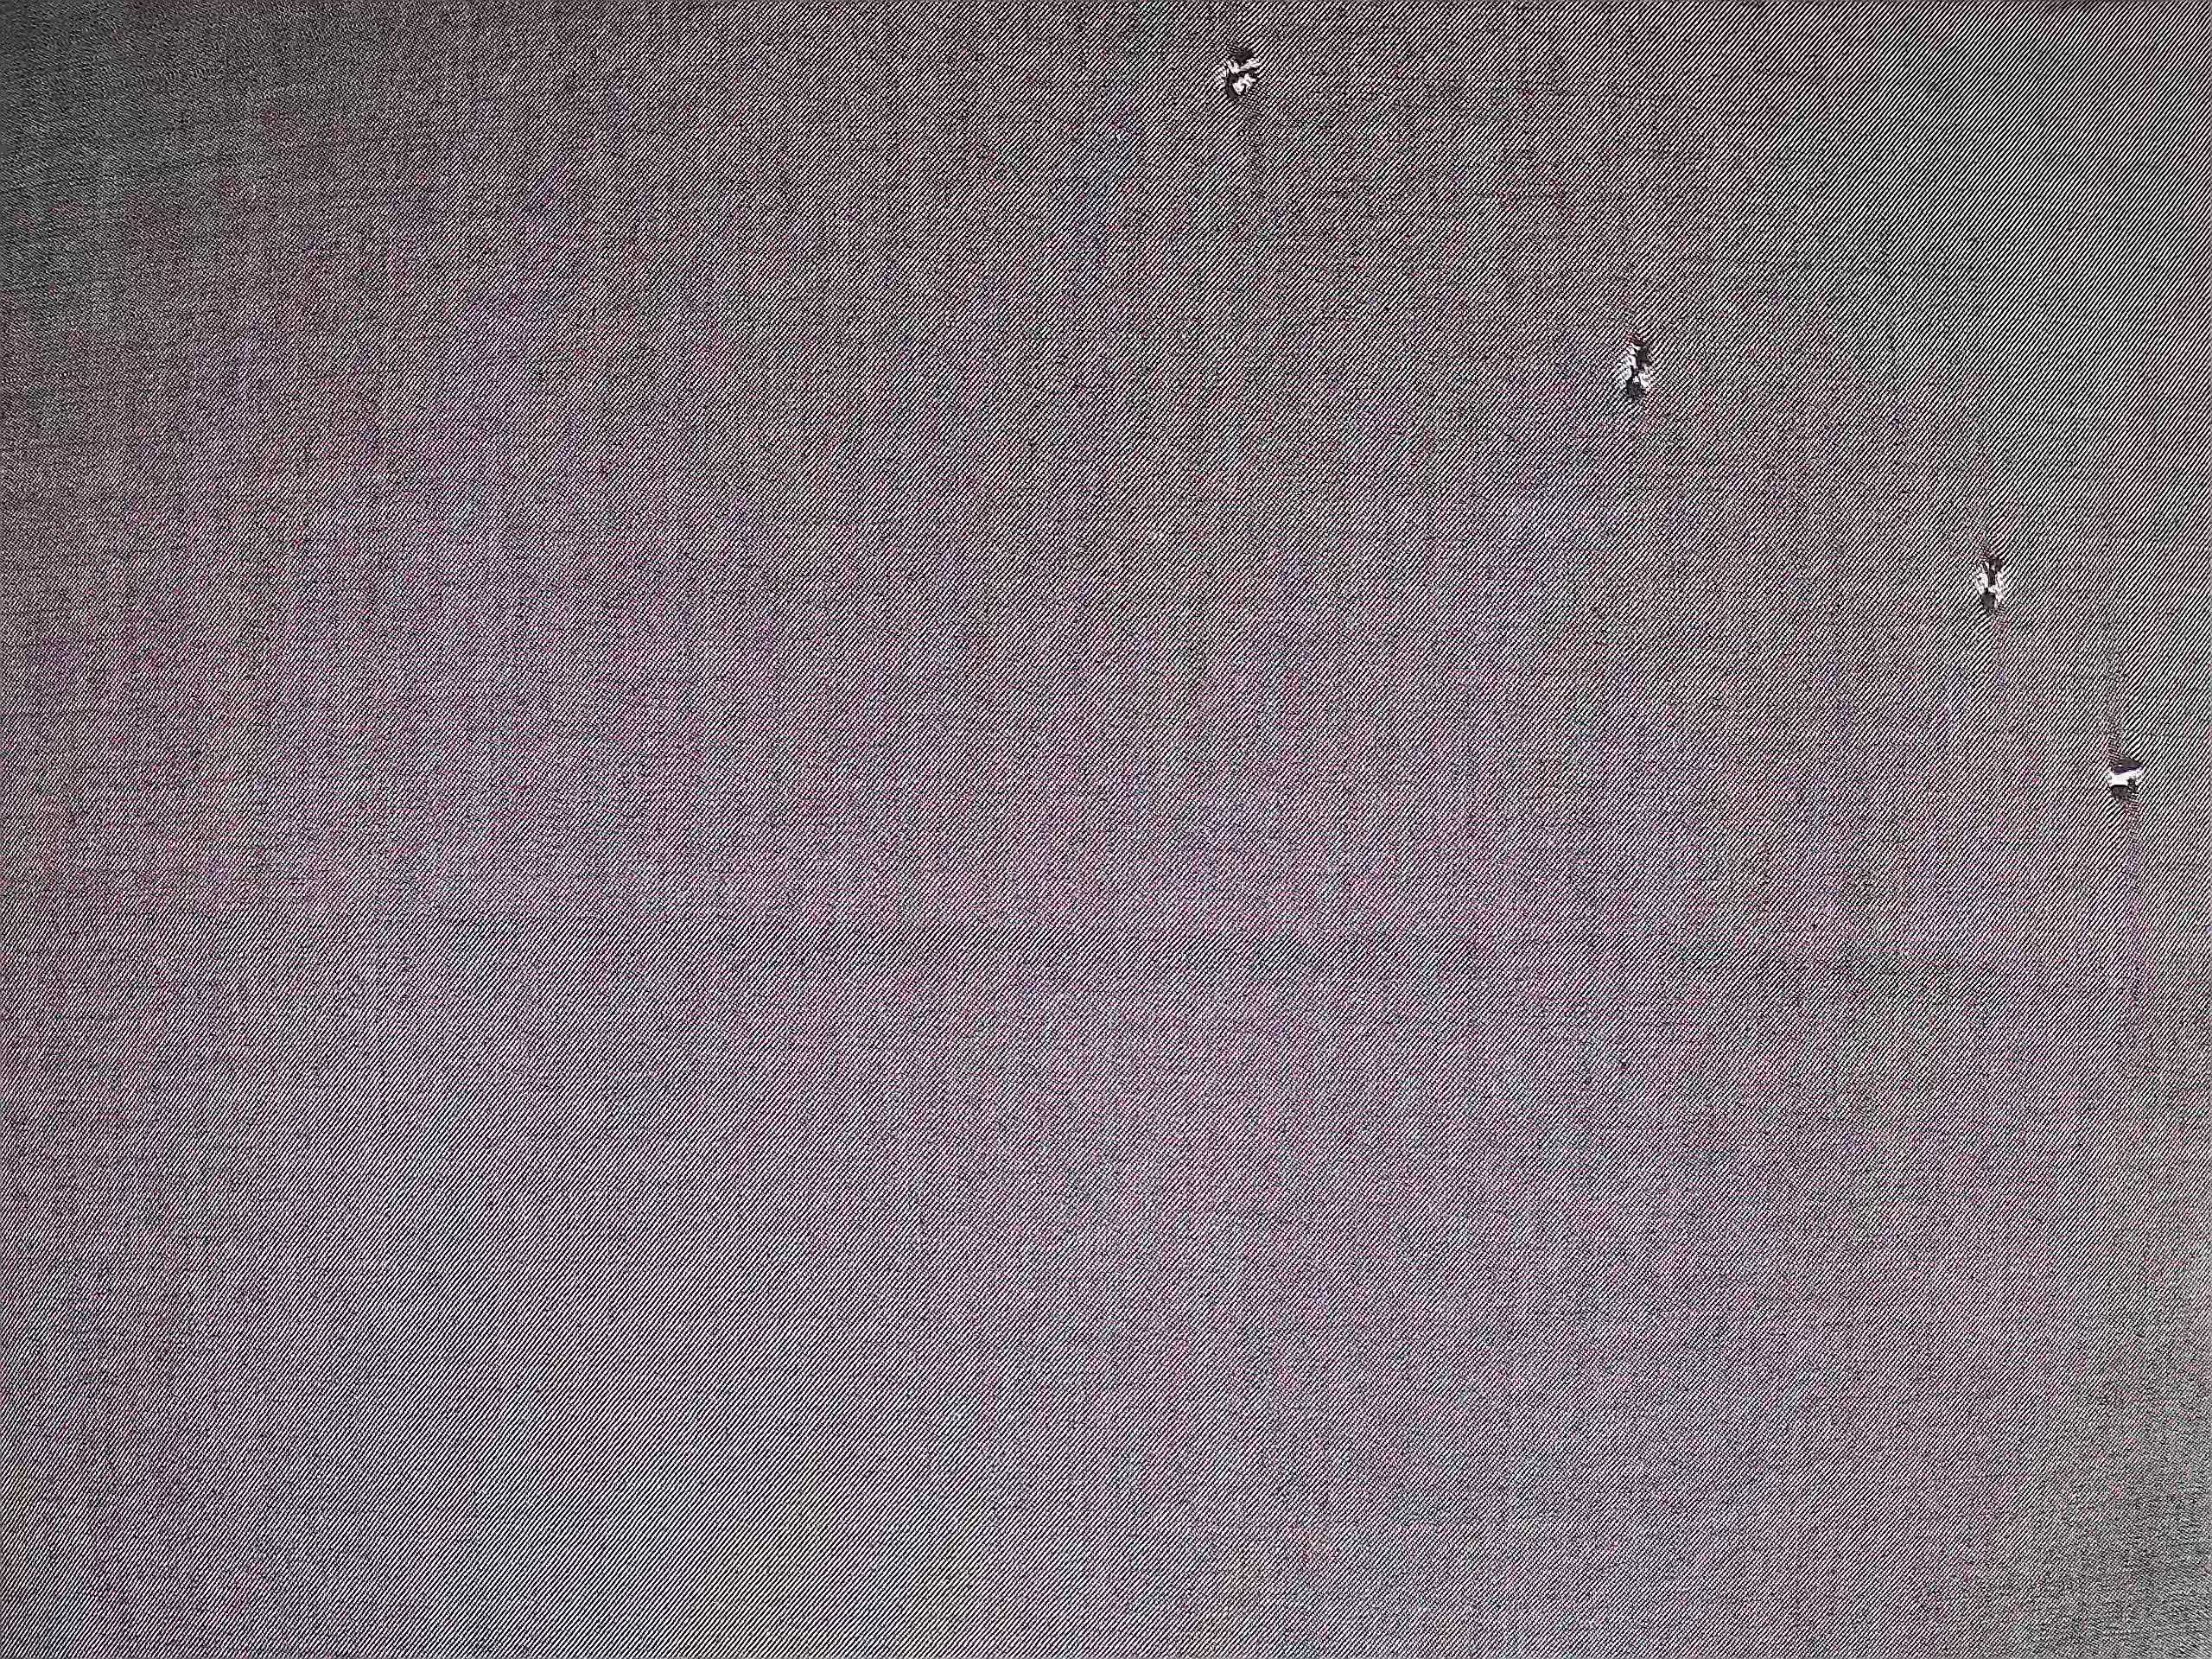rubbing-hole: (2080, 690, 2168, 843), (1191, 21, 1284, 122), (1602, 317, 1677, 416), (1958, 540, 2033, 636)
